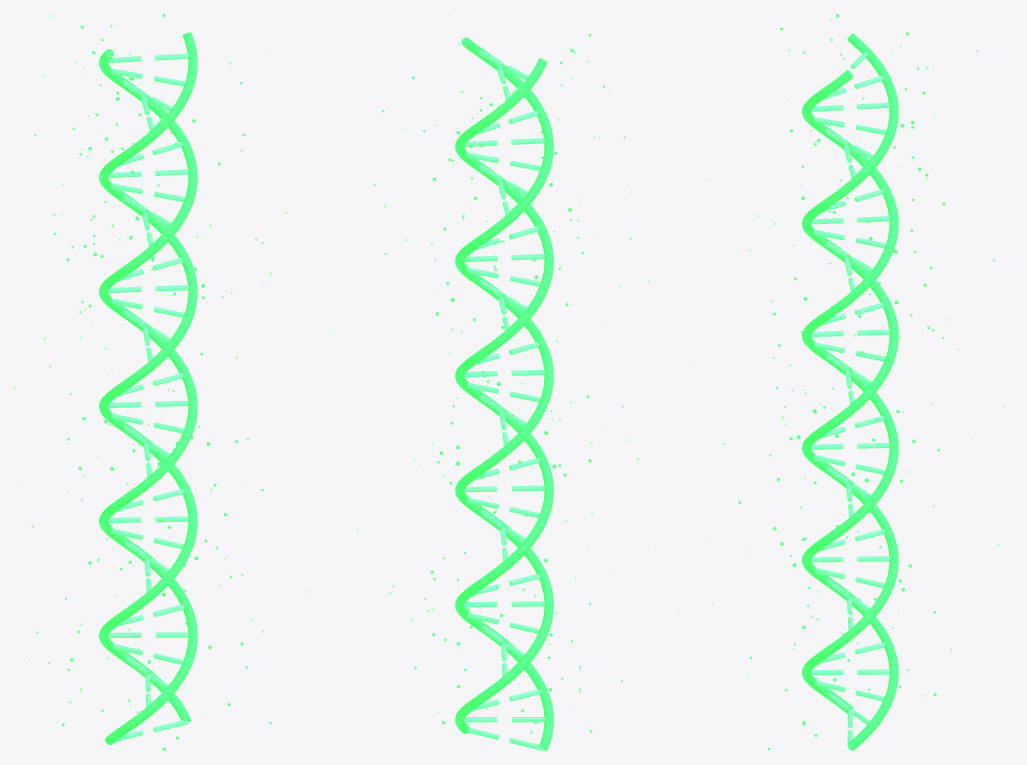
Rendered from dna-p2x1.glb.
3 views of the same model, side by side, from view 1: azimuth 30°, elevation 25°; view 2: azimuth 150°, elevation 25°; view 3: azimuth 270°, elevation 25° (orthographic). The views are drawn at different scales.
Visible parts, largest first — view 1: Backbone_B, Backbone_A; view 2: Backbone_A, Backbone_B; view 3: Backbone_B, Backbone_A.
Boxes of the visible parts, <box> form: Backbone_B: <box>99,49,197,745</box>; Backbone_A: <box>99,32,197,722</box>; Backbone_A: <box>455,37,553,733</box>; Backbone_B: <box>455,58,553,750</box>; Backbone_B: <box>802,33,898,713</box>; Backbone_A: <box>802,70,898,750</box>.
Bounding box in the file's own units: 5.91 × 14.73 × 6.48.
